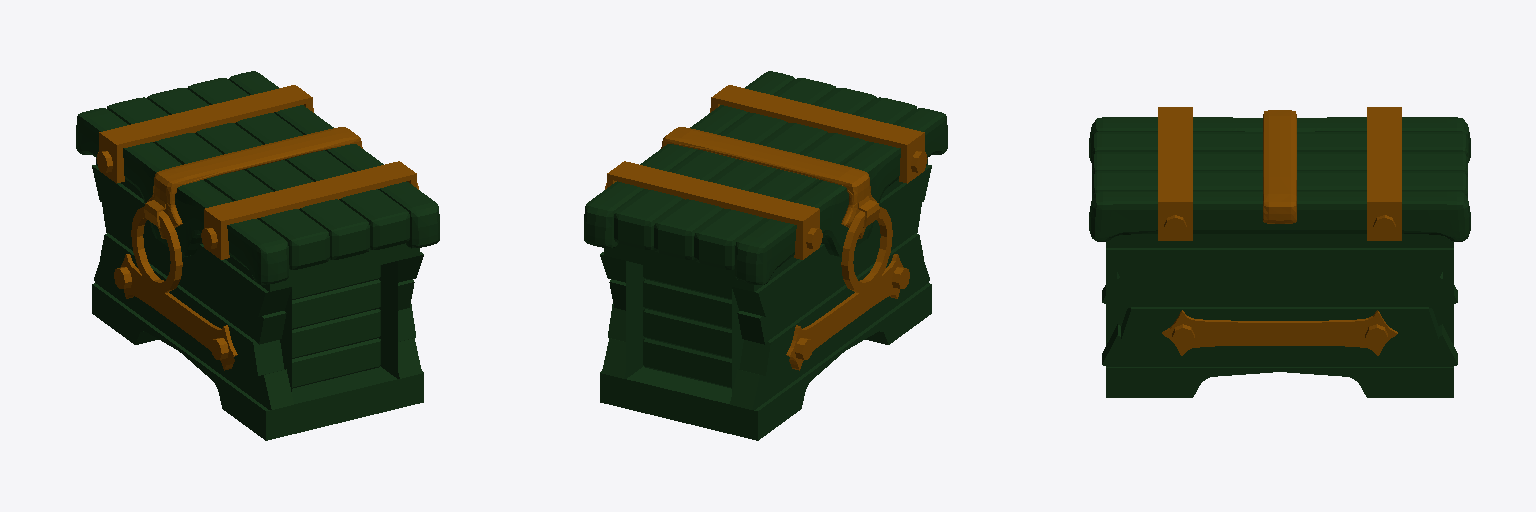
Rendered from Chest.obj.
3 renders of one model, left to right at view 1: azimuth 30°, elevation 25°; view 2: azimuth 150°, elevation 25°; view 3: azimuth 270°, elevation 25°, orthographic.
Parts seen in each view (by area): view 1: Cube.001, Cube.003, Cube.007, Cube.010_Cube.011, Cube.004, Cube.006, Cube.005, Cube.008, Circle, Cube.009; view 2: Cube.001, Cube.003, Cube.007, Cube.010_Cube.011, Cube.004, Cube.005, Cube.006, Cube.008, Circle, Cube.009; view 3: Cube.001, Cube.003, Cube.005, Cube.007, Cube.008, Cube.004, Cube.006, Cube.009.
Boxes of the visible parts, x1=… form: Cube.001: x1=92, y1=159, x2=423, y2=440; Cube.003: x1=107, y1=78, x2=409, y2=269; Cube.007: x1=96, y1=85, x2=418, y2=259; Cube.010_Cube.011: x1=292, y1=265, x2=380, y2=388; Cube.004: x1=76, y1=108, x2=288, y2=284; Cube.006: x1=147, y1=127, x2=362, y2=238; Cube.005: x1=228, y1=71, x2=439, y2=248; Cube.008: x1=120, y1=254, x2=237, y2=370; Circle: x1=131, y1=206, x2=182, y2=293; Cube.009: x1=114, y1=267, x2=228, y2=359; Cube.001: x1=600, y1=159, x2=931, y2=440; Cube.003: x1=614, y1=78, x2=916, y2=269; Cube.007: x1=605, y1=85, x2=927, y2=259; Cube.010_Cube.011: x1=643, y1=265, x2=731, y2=388; Cube.004: x1=735, y1=108, x2=947, y2=284; Cube.005: x1=584, y1=71, x2=795, y2=248; Cube.006: x1=661, y1=127, x2=876, y2=238; Cube.008: x1=786, y1=254, x2=903, y2=370; Circle: x1=841, y1=206, x2=892, y2=293; Cube.009: x1=795, y1=267, x2=909, y2=359; Cube.001: x1=1102, y1=234, x2=1457, y2=397; Cube.003: x1=1092, y1=132, x2=1467, y2=197; Cube.005: x1=1089, y1=191, x2=1470, y2=241; Cube.007: x1=1158, y1=107, x2=1401, y2=240; Cube.008: x1=1162, y1=310, x2=1397, y2=355; Cube.004: x1=1089, y1=117, x2=1470, y2=162; Cube.006: x1=1263, y1=110, x2=1296, y2=223; Cube.009: x1=1172, y1=324, x2=1387, y2=347.
Size of the model in its own units: 2.81 by 2.6 by 4.39.